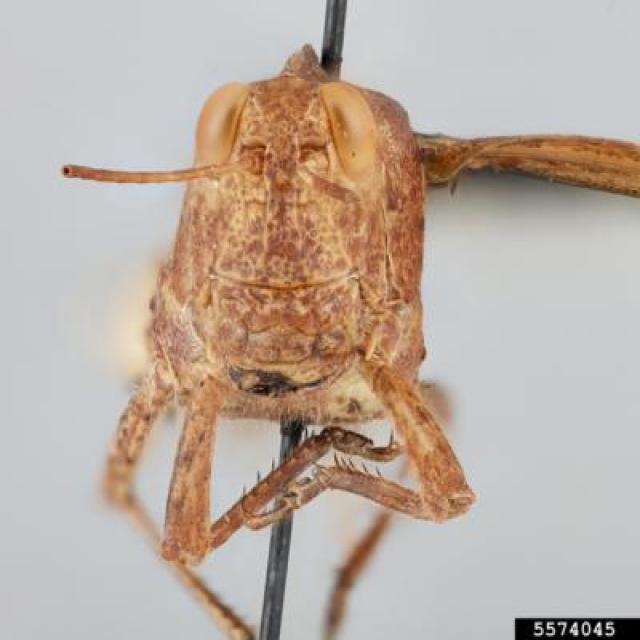antennae: (64, 150, 258, 183), (299, 159, 365, 226)
body: (150, 49, 429, 434)
insect: (58, 44, 639, 640)
legs: (158, 370, 406, 562), (246, 338, 472, 535), (94, 373, 250, 640), (316, 380, 452, 638)
mouthpart: (204, 291, 358, 390)
wings: (418, 136, 640, 200)
